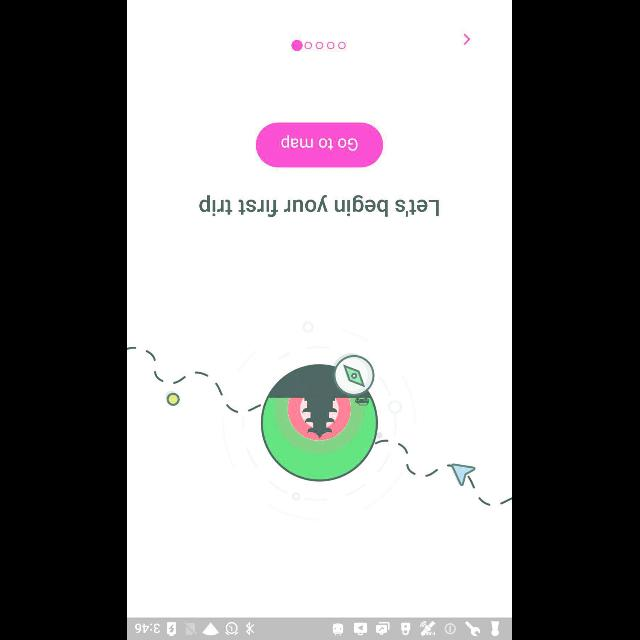icon: (464, 34, 471, 44)
image: (128, 322, 512, 520)
pageindicator: (292, 39, 346, 51)
text: (200, 194, 440, 218)
textbutton: (256, 122, 384, 168)
uppertaskbar: (128, 617, 512, 639)
